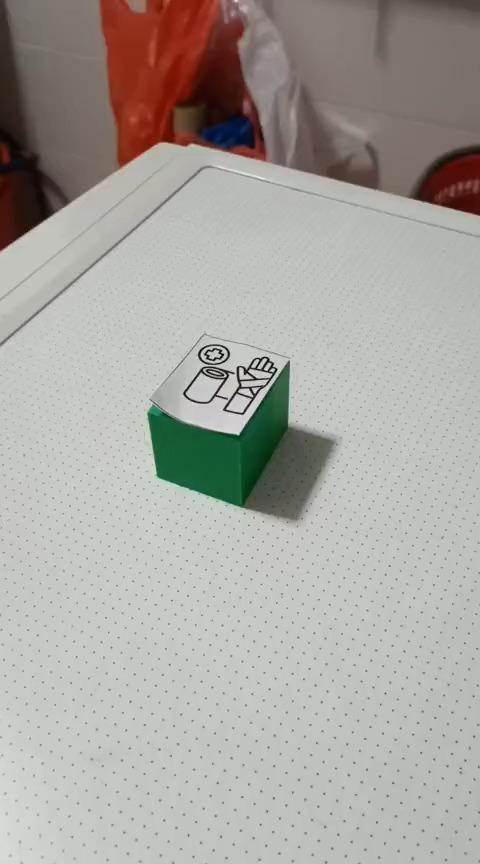Bandages: (146, 331, 291, 507)
